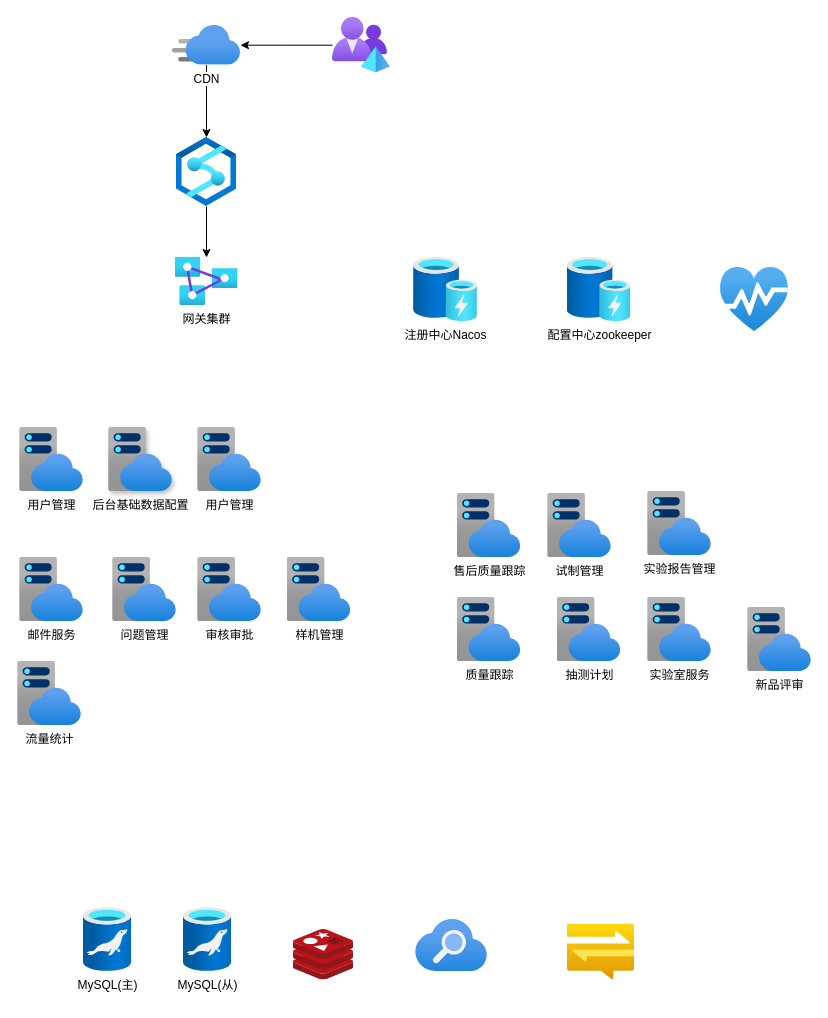
This 828x1018 diagram has some shape labels left out. Each missing label, with the centre of its shape:
ElasticSearch: pixel 451 945
Kafka: pixel 600 951
Nginx: pixel 206 171
Redis: pixel 323 954
